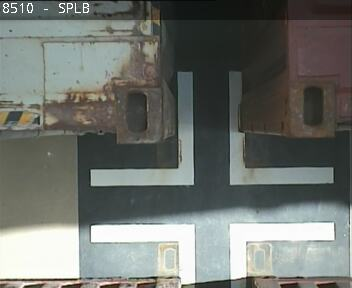groundmarker_1: (89, 72, 334, 187), (90, 222, 334, 288)
